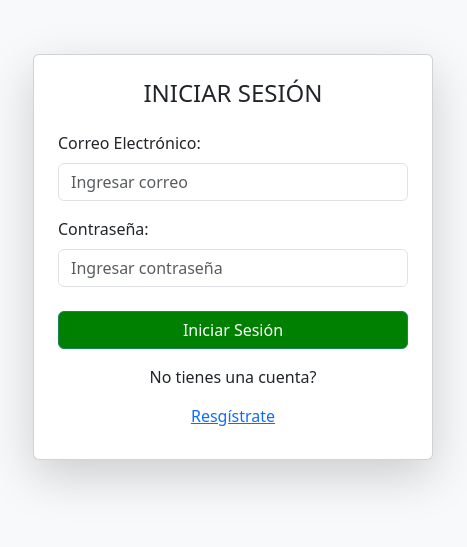
Scenario: Login Component › handles unexpected errors on login
Note: Rellenar los campos del formulario
Type "test@example.com" into the field with placeholder "Ingresar correo" at [233, 182], box [58,163,408,201]
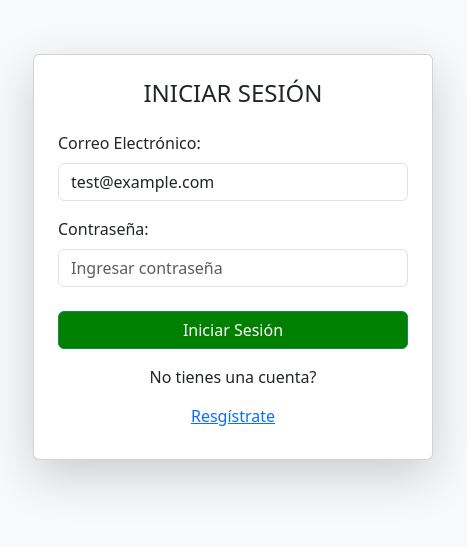
Type "password123" into the password field with placeholder "Ingresar contraseña" at [233, 268], box [58,249,408,287]
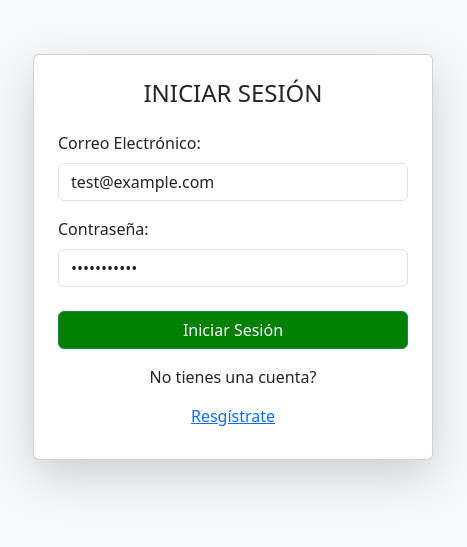
Note: Simula el clic en el botón de inicio de sesión
Click the button "Iniciar Sesión" at [233, 330], box [58,311,408,349]
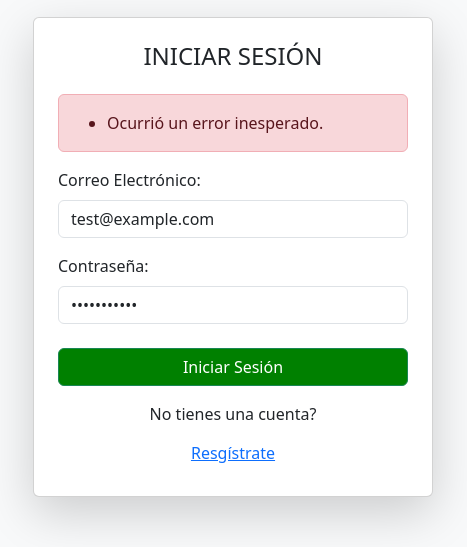
Result: the list item "Ocurrió un error inesperado." is shown at [107,112,323,134]
